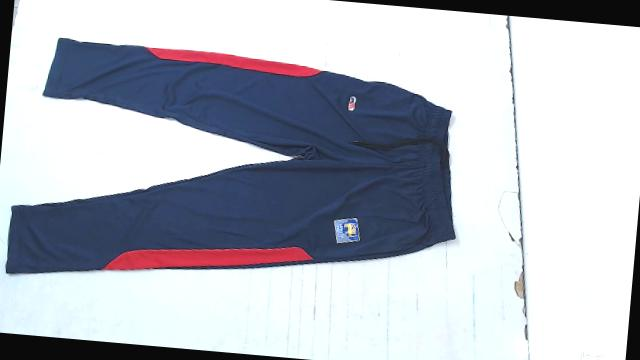new-garment: (6, 38, 454, 273)
